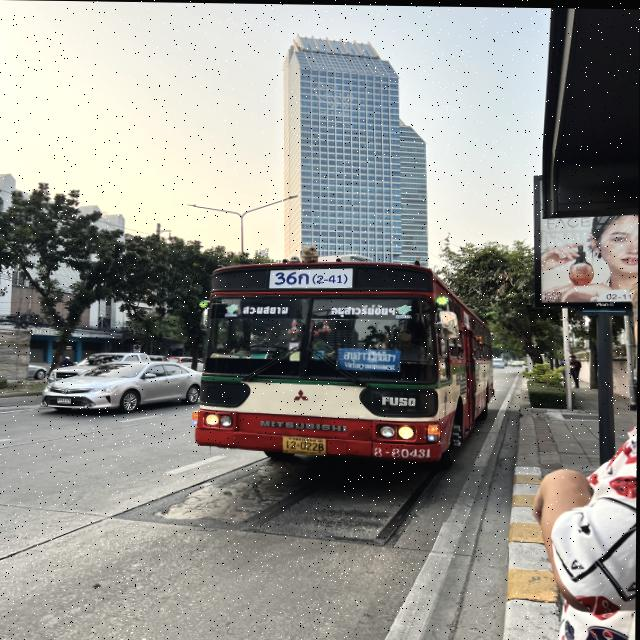BMTA-bus: (194, 259, 493, 464)
Bus Line Number: (271, 267, 354, 288)
Destination Sign: (336, 346, 399, 370), (368, 444, 438, 461)
